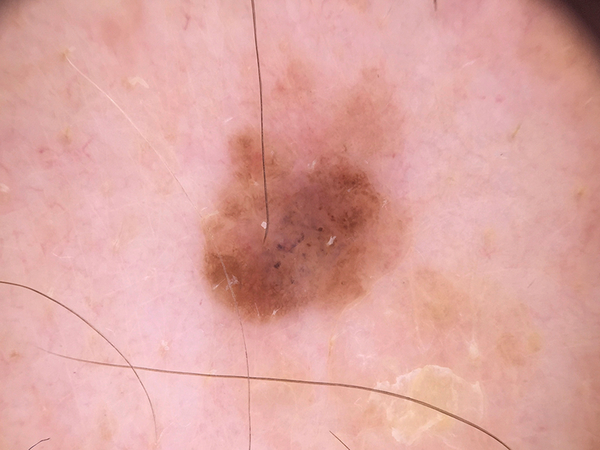Detected Lesion: (198, 128, 413, 320)
